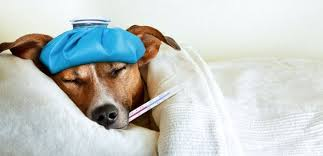dog: (3, 16, 201, 141)
